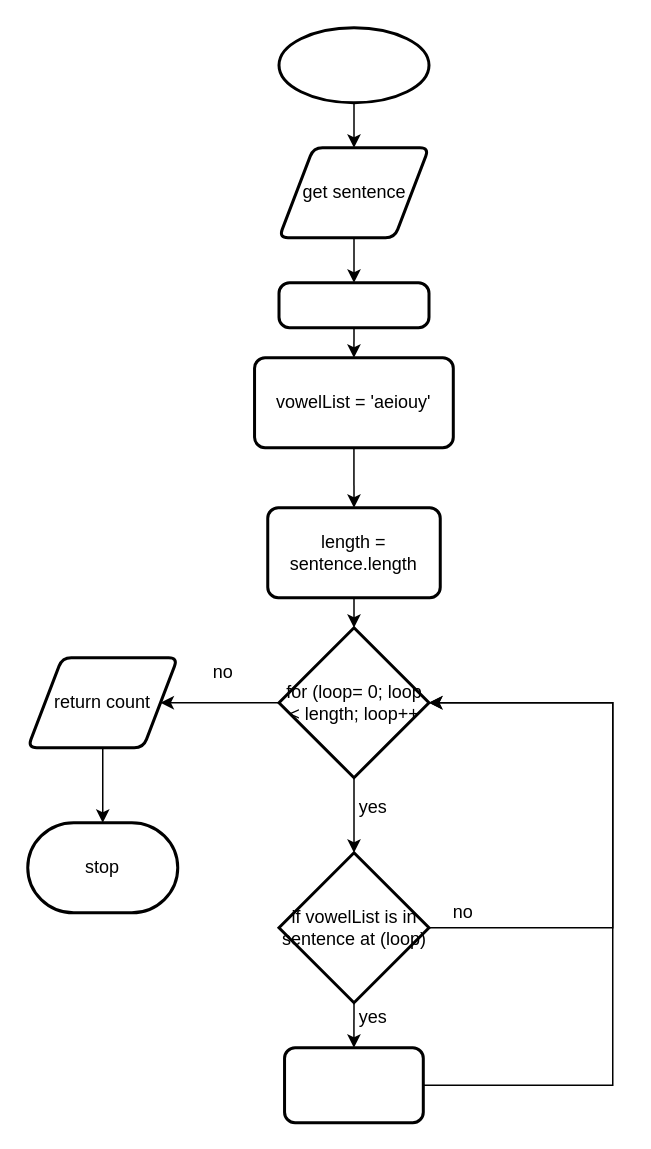
This 651x1149 diagram has some shape labels left out. The centre of each missing label's shape, as x and y in pixels:
"count ++" belongs at (x=353, y=1085).
"count = 0" belongs at (x=353, y=304).
"Start" belongs at (x=353, y=65).
